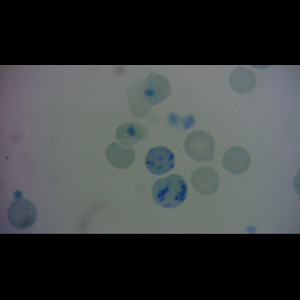aggregate reticulocyte: (150, 173, 188, 210), (144, 145, 176, 176)
erythrocyte: (182, 129, 217, 164), (125, 78, 153, 118), (141, 72, 173, 107), (104, 140, 137, 171), (221, 145, 252, 176), (115, 120, 150, 146), (189, 166, 220, 195), (227, 66, 257, 94)
punctate reticulocyte: (6, 197, 38, 231)
